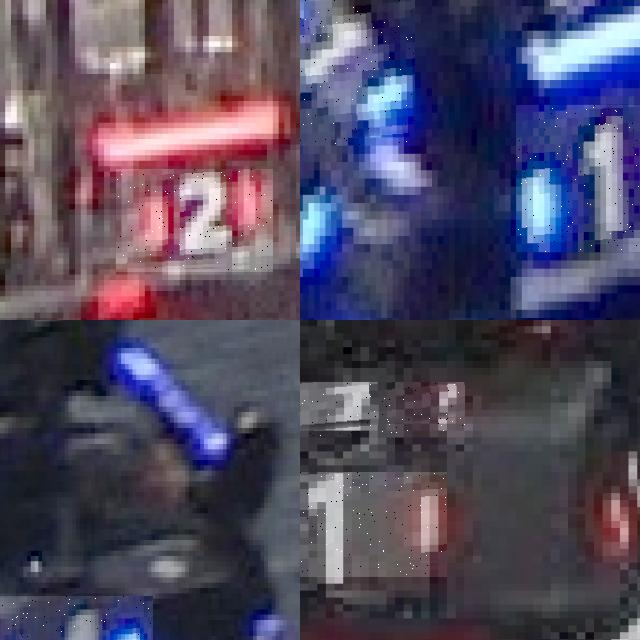B1: (516, 104, 640, 252), (300, 0, 415, 145)
B4: (0, 596, 153, 640)
R1: (300, 472, 447, 576), (300, 381, 464, 437)
R2: (116, 169, 273, 272)
